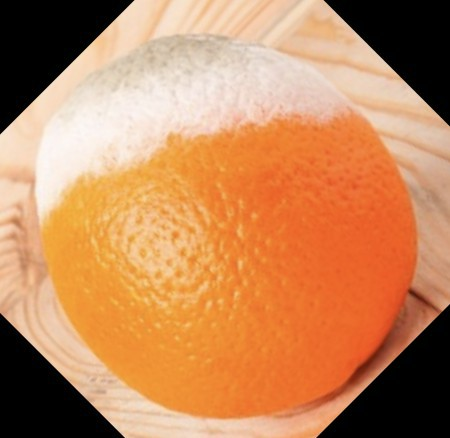rotten_orange: (38, 38, 420, 417)
